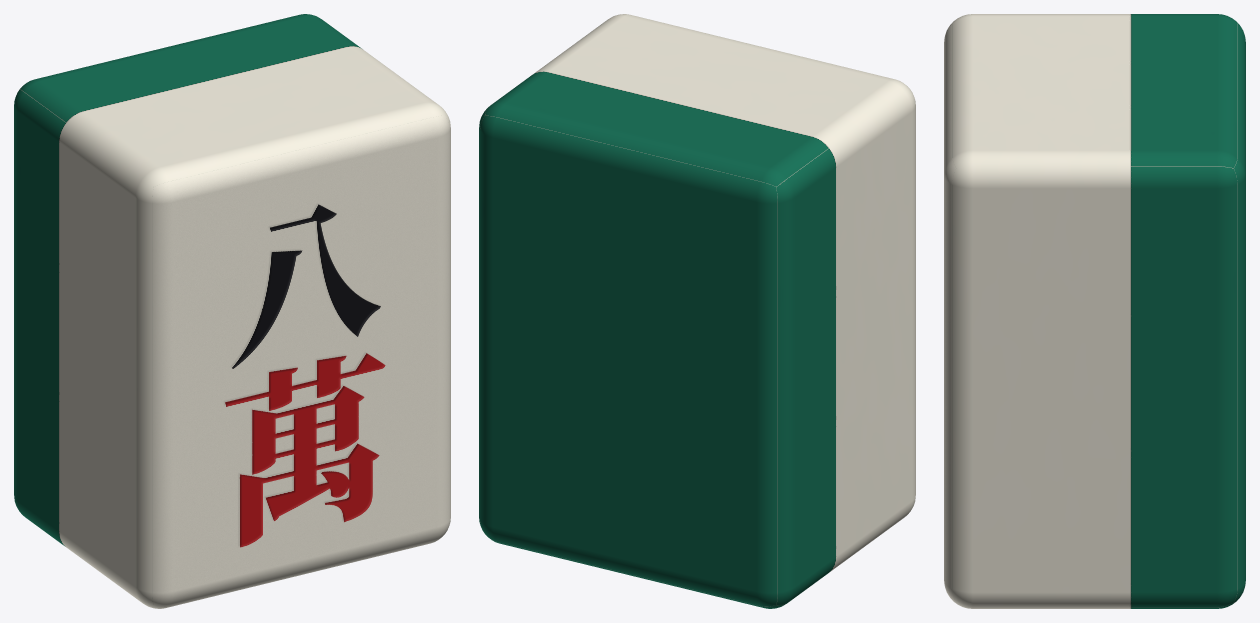
Rendered from tile_8m.obj.
3 views of the same model, side by side, from view 1: azimuth 30°, elevation 25°; view 2: azimuth 150°, elevation 25°; view 3: azimuth 270°, elevation 25° (orthographic). The views are drawn at different scales.
Parts seen in each view (by area): view 1: tile_8m; view 2: tile_8m; view 3: tile_8m.
Boxes of the visible parts, x1=… form: tile_8m: x1=14, y1=14, x2=450, y2=608; tile_8m: x1=479, y1=14, x2=915, y2=608; tile_8m: x1=944, y1=14, x2=1245, y2=608.
Bounding box in the file's own units: 0.026 × 0.035 × 0.021.
1 material, 1 textured.
